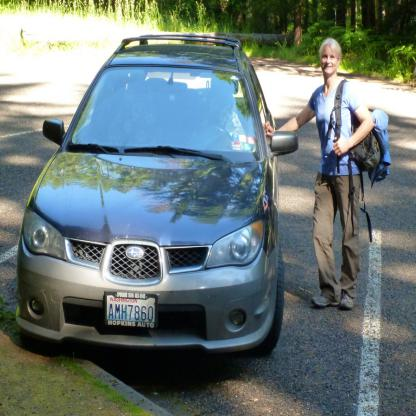Car: (13, 33, 300, 359)
